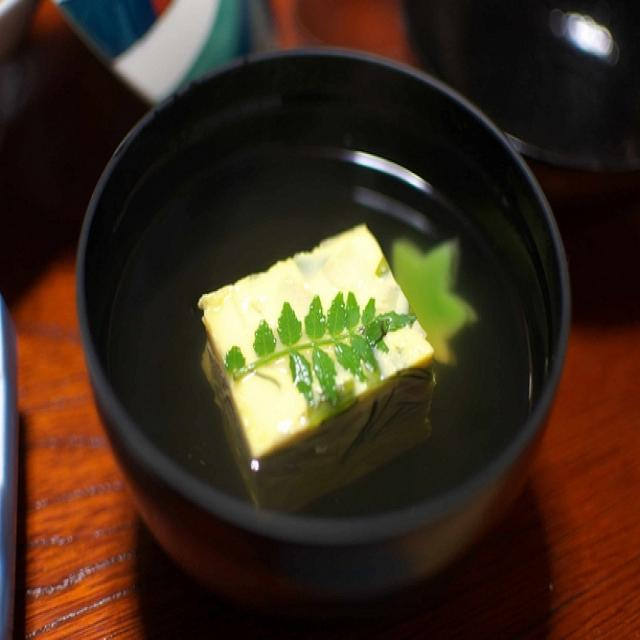汤锅炖物: (69, 55, 584, 591)
